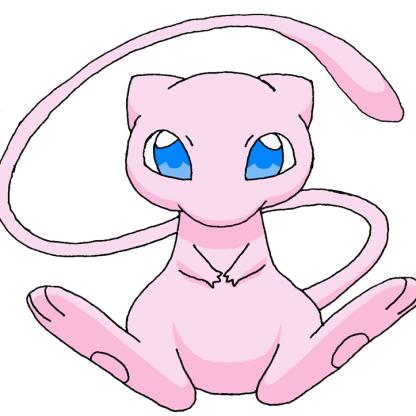Mew: (1, 1, 416, 413)
